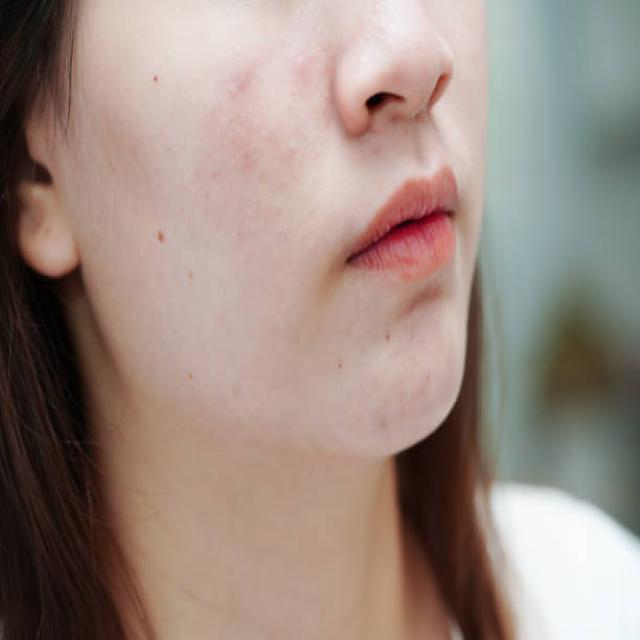Dry-Skin: (144, 57, 322, 366)
